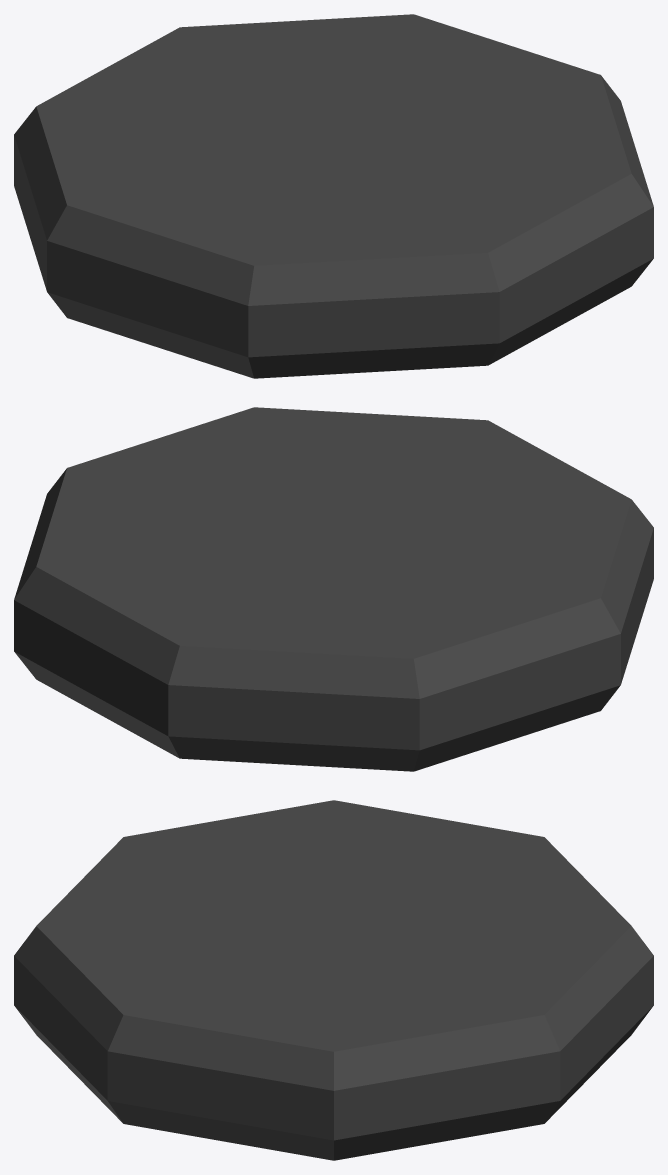
The model's file is Light_03.fbx.
The picture shows the model from 3 angles, top to bottom: view 1: azimuth 30°, elevation 25°; view 2: azimuth 150°, elevation 25°; view 3: azimuth 270°, elevation 25°; orthographic projection. The views are drawn at different scales.
Visible parts, largest first — view 1: Light_03; view 2: Light_03; view 3: Light_03.
Boxes of the visible parts, <box> form: Light_03: <box>14,14,653,378</box>; Light_03: <box>14,407,653,771</box>; Light_03: <box>14,800,653,1160</box>.
Bounding box in the file's own units: 40.13 × 7.54 × 40.13.
